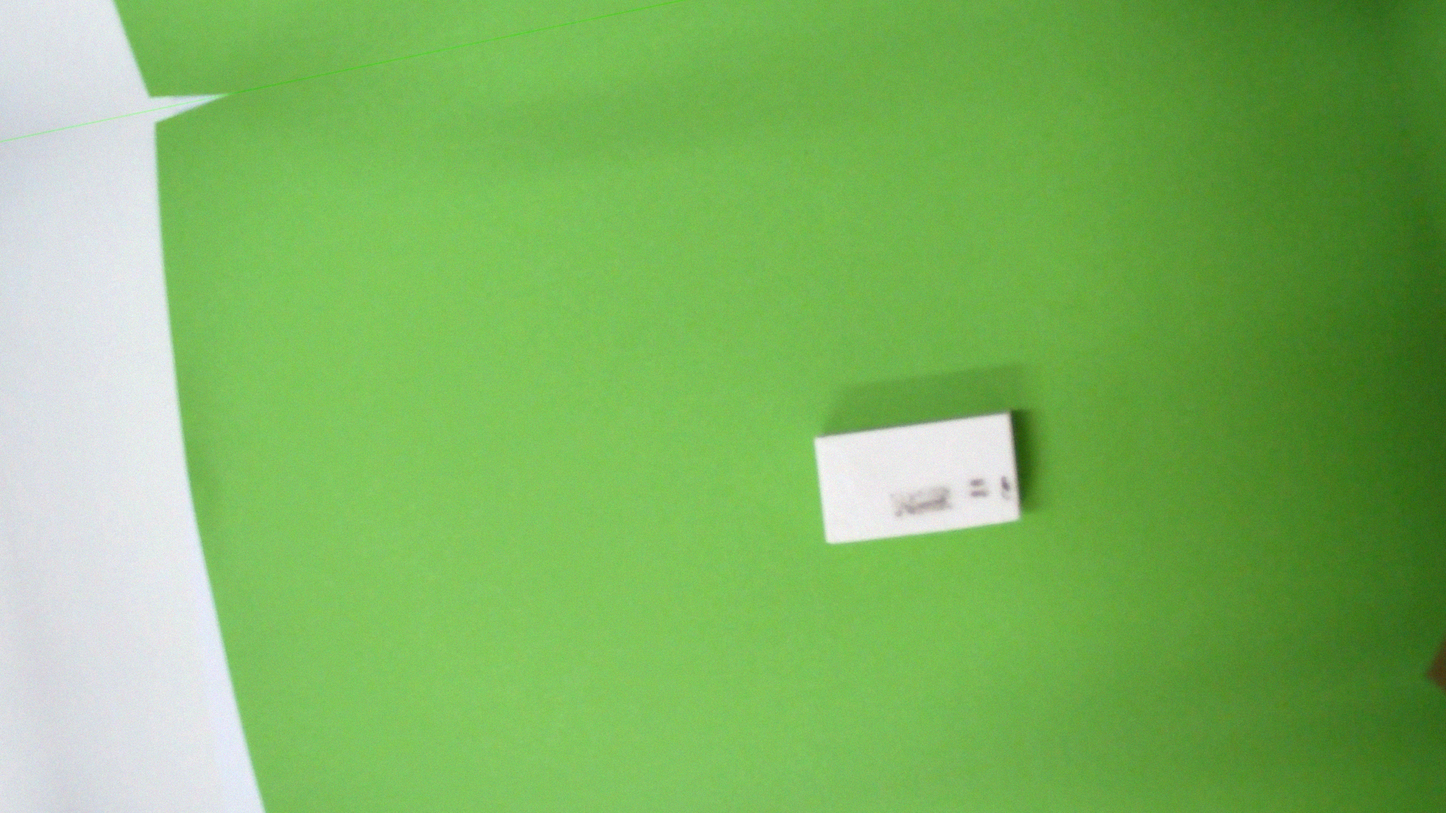gom: (802, 386, 1037, 571)
